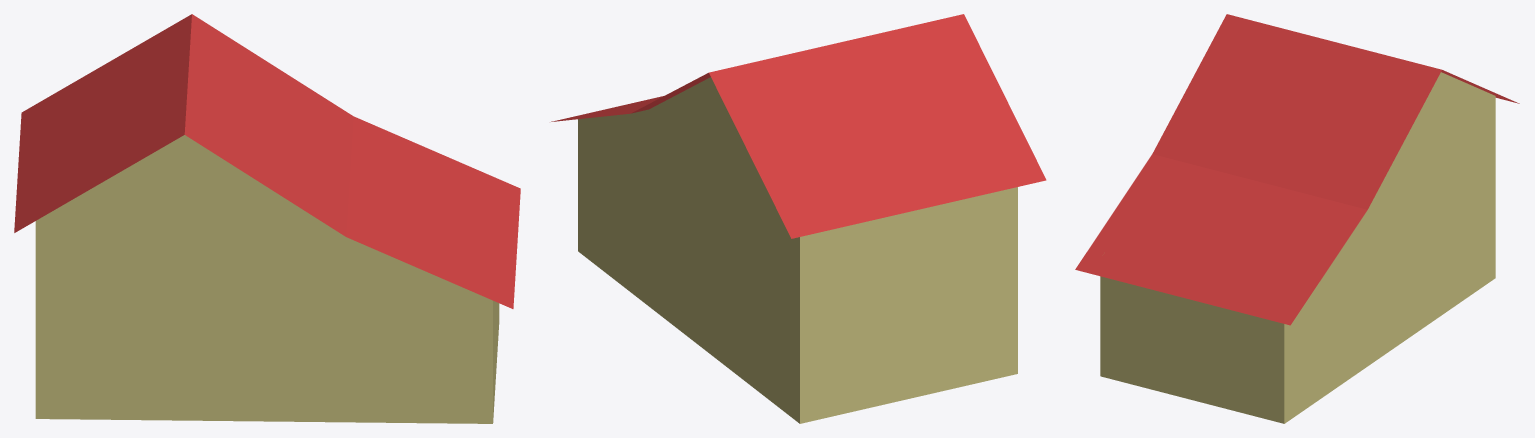
The picture shows the model from 3 angles, left to right: view 1: azimuth 30°, elevation 25°; view 2: azimuth 150°, elevation 25°; view 3: azimuth 270°, elevation 25°; orthographic projection. The views are drawn at different scales.
Bounding box in the file's own units: 20.66 × 18.12 × 11.67.
